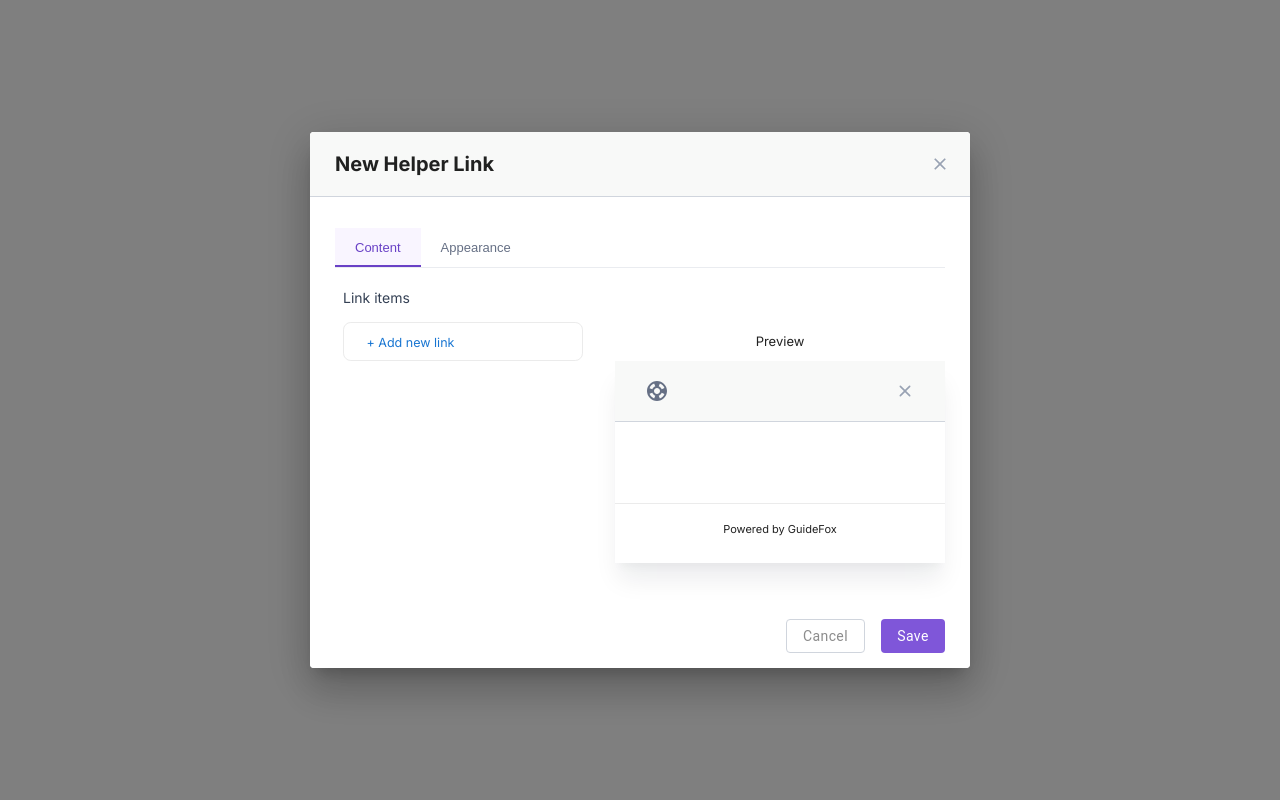
Test: Test Helper Link popup › Test the appearance and the preview › should change the background color of the header if the color is changed
Click the button "Appearance": (476, 247) [420, 228, 531, 267]
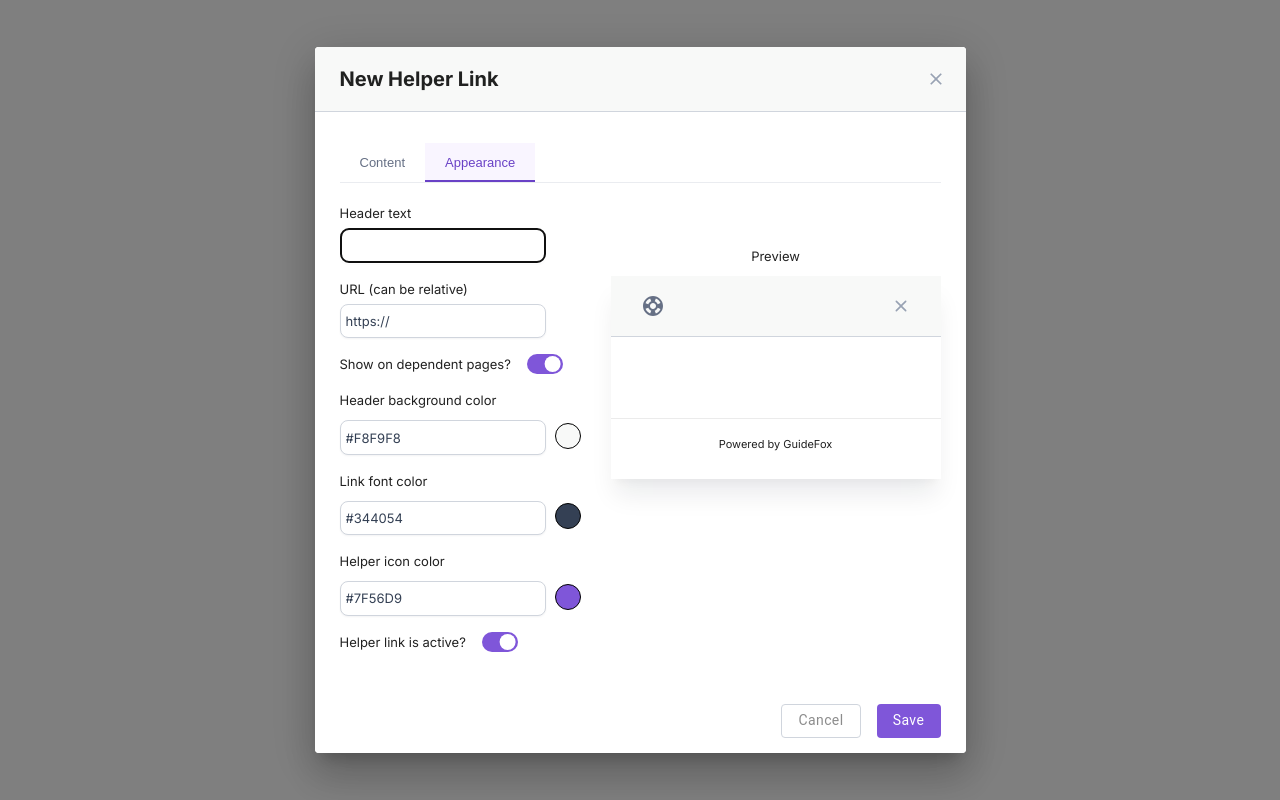
In the button with id "header-bg": (459, 422) [340, 390, 578, 455], type "#f2f2f2"
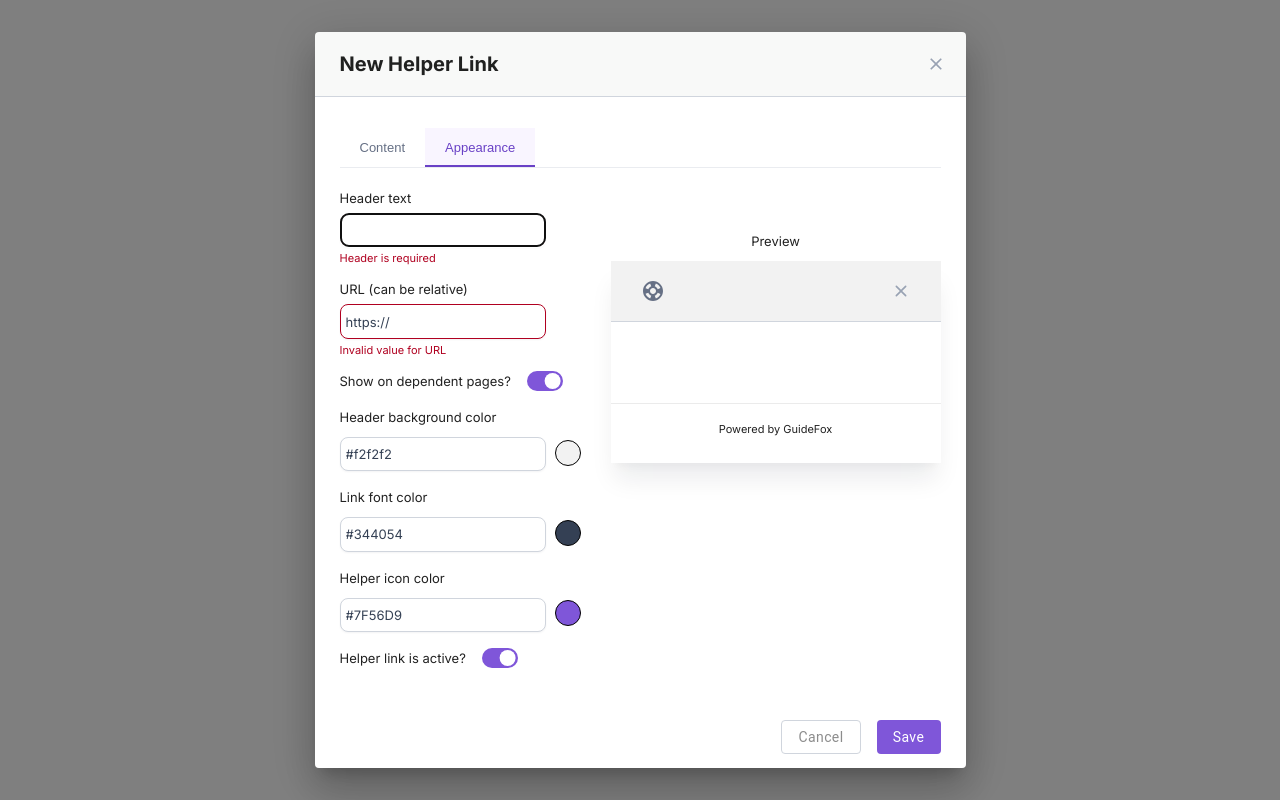
Result: the field named "headerBackgroundColor" below "Header background color" holds "#f2f2f2" at [340, 437, 546, 471]
